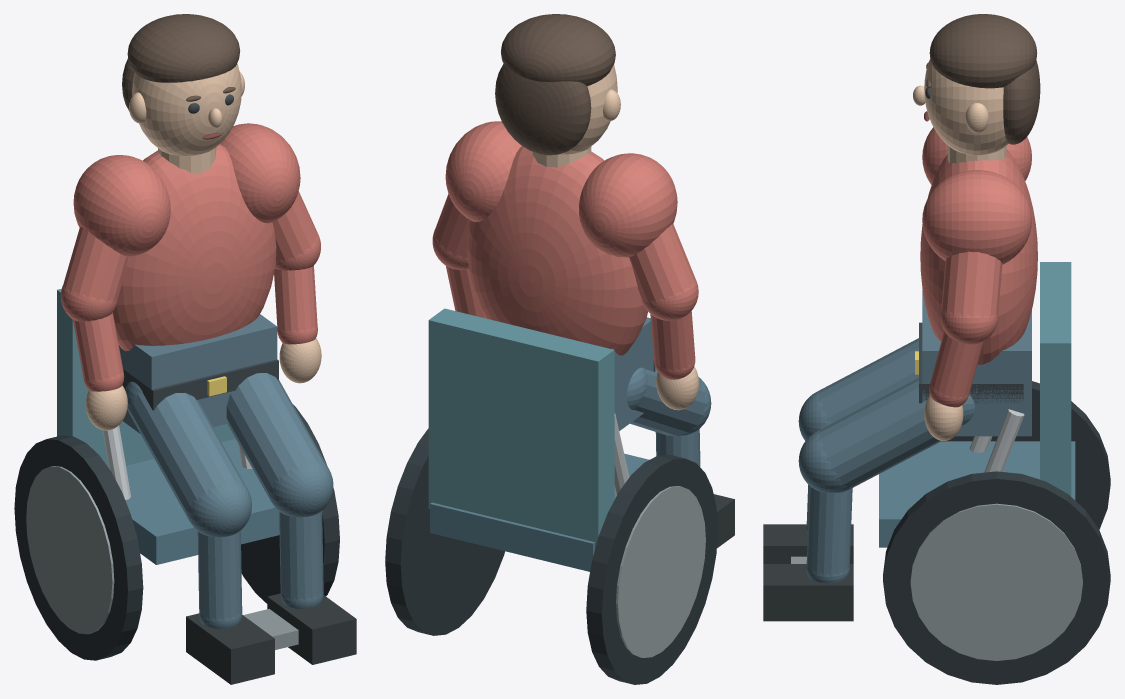
File: npc_wheelchair.glb
3 renders of one model, left to right at view 1: azimuth 30°, elevation 25°; view 2: azimuth 150°, elevation 25°; view 3: azimuth 270°, elevation 25°, orthographic. The views are drawn at different scales.
Visible parts, largest first — view 1: torso_base, left_wheel, left_wheel_hub, shoulder_left, left_thigh, chair_seat, pants_pelvis, right_thigh, head, hair_cap, shoulder_right, chair_back (+20 smaller); view 2: chair_back, torso_base, right_wheel, left_wheel, left_wheel_hub, shoulder_left, hair_cap, hair_back, chair_seat, shoulder_right, left_upper_arm, left_thigh (+13 smaller); view 3: right_wheel_hub, right_wheel, shoulder_right, right_thigh, chair_back, torso_base, chair_seat, hair_cap, pants_pelvis, head, right_shoe, left_wheel (+15 smaller).
Boxes of the visible parts, x1,y1,x2,y2 form: torso_base: (113, 144, 276, 351); left_wheel: (14, 435, 143, 660); left_wheel_hub: (26, 466, 114, 634); shoulder_left: (73, 155, 170, 256); left_thigh: (128, 392, 247, 521); chair_seat: (125, 439, 279, 564); pants_pelvis: (119, 314, 277, 433); right_thigh: (226, 373, 329, 498); head: (132, 63, 241, 156); hair_cap: (127, 14, 240, 82); shoulder_right: (220, 123, 300, 223); chair_back: (57, 288, 235, 467); chair_back: (428, 308, 614, 548); torso_base: (467, 146, 647, 355); right_wheel: (385, 428, 504, 635); left_wheel: (586, 454, 717, 684); left_wheel_hub: (616, 486, 705, 657); shoulder_left: (579, 153, 677, 257); hair_cap: (501, 14, 615, 86); hair_back: (495, 64, 591, 155); chair_seat: (430, 453, 649, 571); shoulder_right: (445, 121, 521, 221); left_upper_arm: (629, 224, 696, 304); left_thigh: (630, 368, 707, 436); right_wheel_hub: (910, 503, 1082, 660); right_wheel: (883, 471, 1110, 684); shoulder_right: (922, 170, 1031, 264); right_thigh: (815, 378, 941, 489); chair_back: (1040, 262, 1071, 496); torso_base: (920, 149, 1037, 364); chair_seat: (879, 441, 1075, 547); hair_cap: (929, 14, 1037, 88); pants_pelvis: (922, 290, 1031, 436); head: (924, 59, 1007, 155); right_shoe: (763, 564, 853, 621); left_wheel: (942, 381, 1110, 529).
Bounding box in the file's own units: 0.7449 × 1.72 × 0.885.
